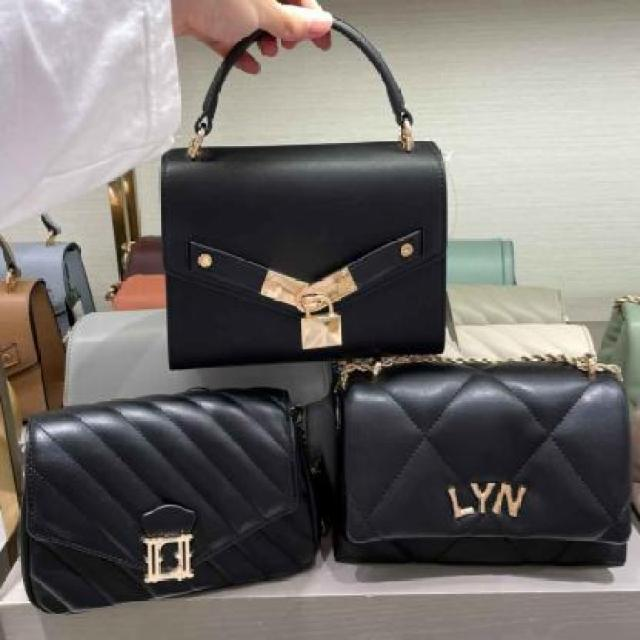Bag: (136, 14, 478, 366), (10, 389, 332, 640), (299, 346, 619, 572)
